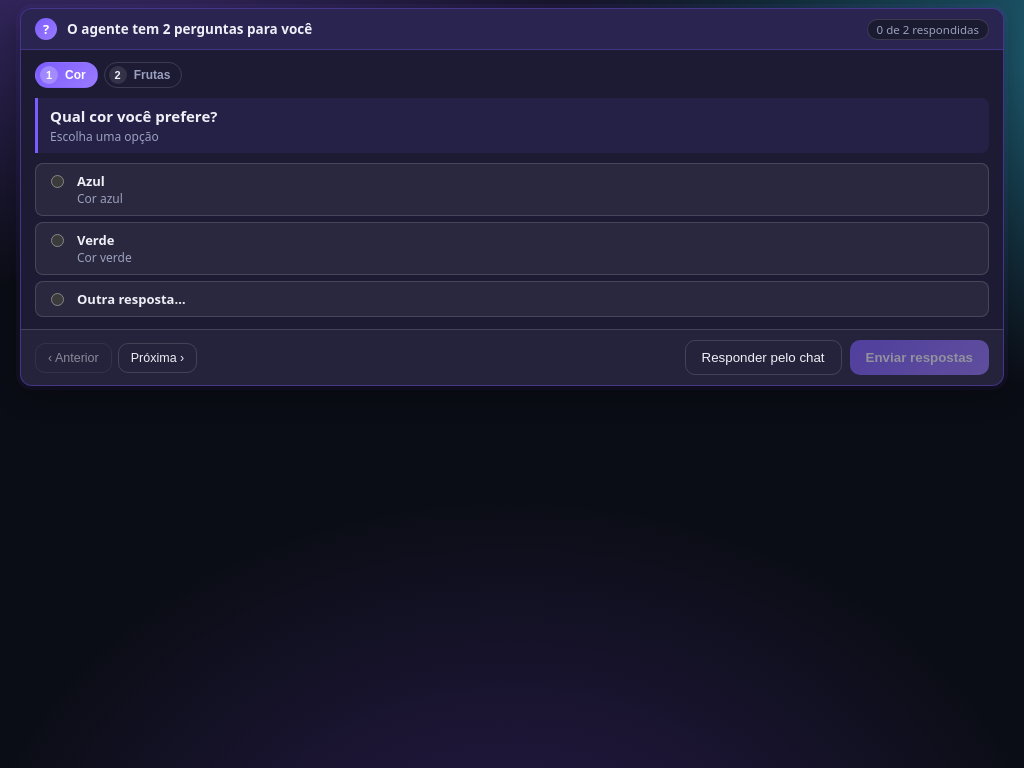
Test case: QuestionPanel › a dica sob a pergunta diz se é escolha única ou múltipla
Expected: the text "Escolha uma opção" is shown, left=50, top=128, right=159, bottom=145
Click the button "Próxima ›" at (158, 358), box left=118, top=343, right=197, bottom=373
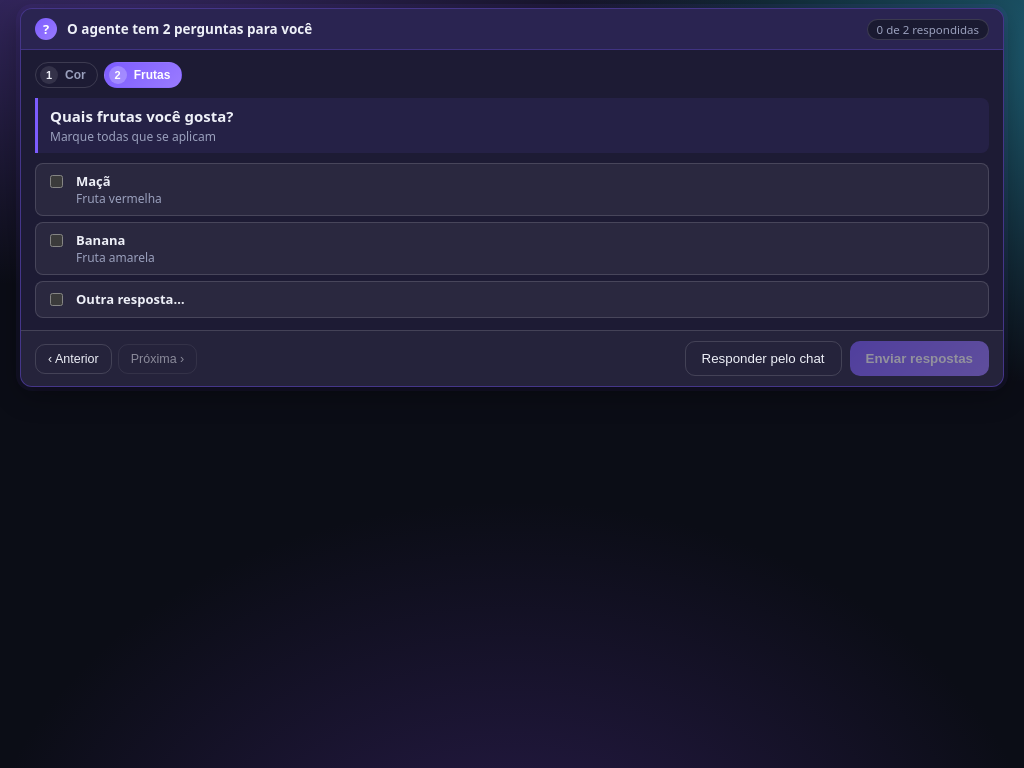
Now the text "Marque todas que se aplicam" is shown, box left=50, top=128, right=216, bottom=145
